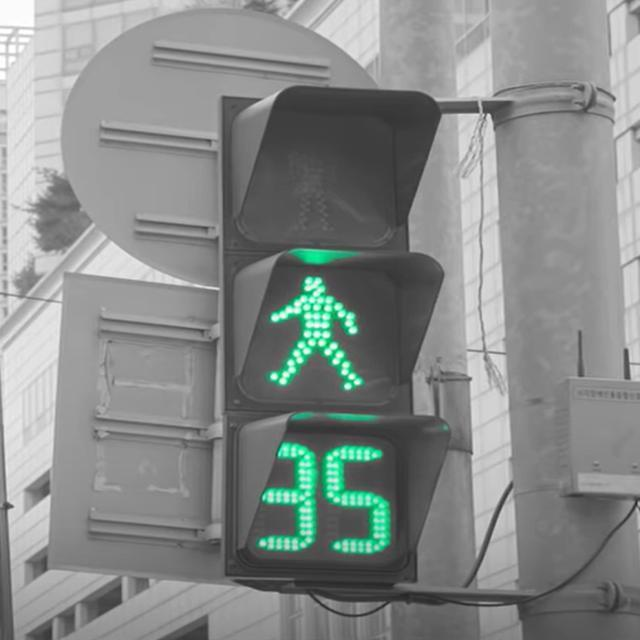green_light: (255, 265, 408, 563)
